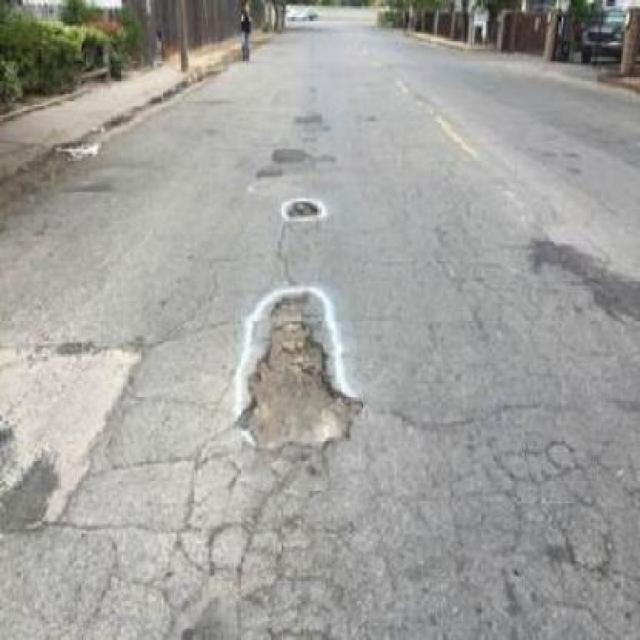Pothole: (235, 291, 358, 453), (283, 194, 320, 219)
